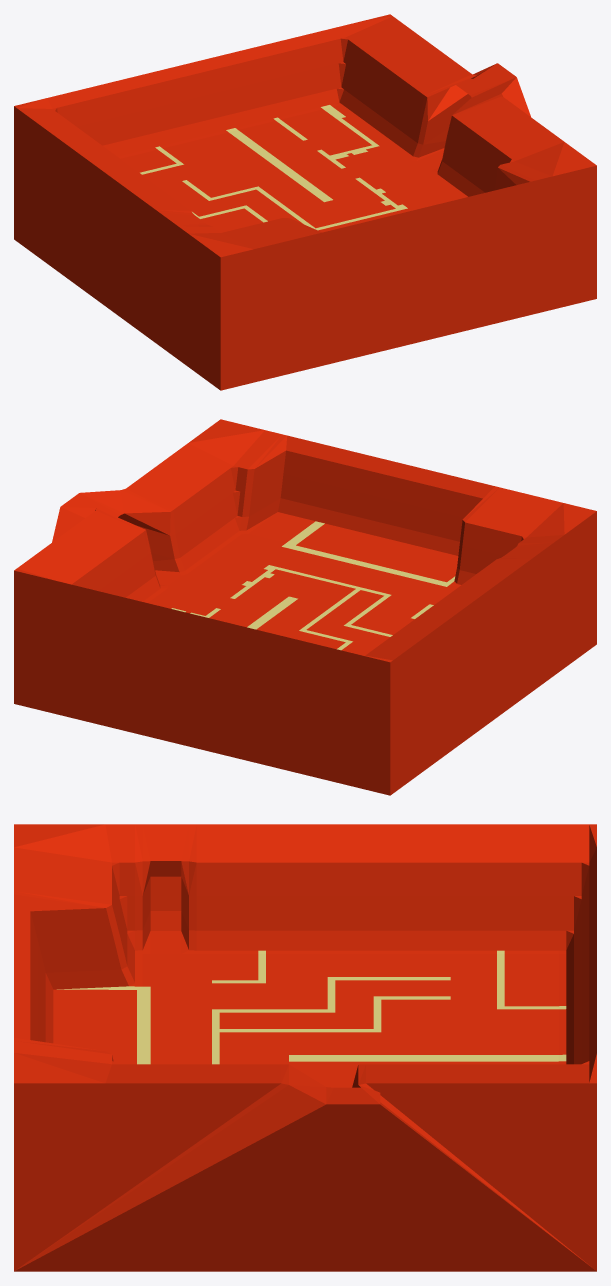
File: Level 2 - Area 1.fbx
The picture shows the model from 3 angles, top to bottom: view 1: azimuth 30°, elevation 25°; view 2: azimuth 150°, elevation 25°; view 3: azimuth 270°, elevation 25°; orthographic projection. The views are drawn at different scales.
Visible parts, largest first — view 1: Level2-Area1; view 2: Level2-Area1; view 3: Level2-Area1.
Boxes of the visible parts, box(x1,y1,x2,y2) form: Level2-Area1: box(14, 14, 596, 390); Level2-Area1: box(14, 419, 596, 795); Level2-Area1: box(14, 824, 596, 1271).
Bounding box in the file's own units: 13448 × 4212 × 11834.
